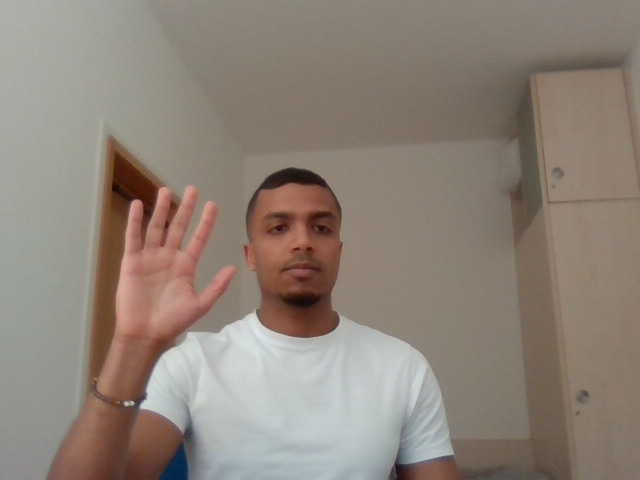hello: (97, 167, 247, 354)
